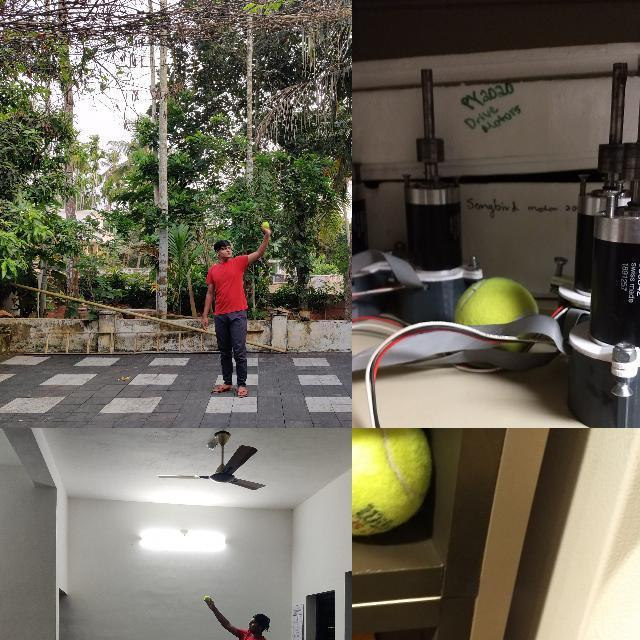tennis-ball: (352, 428, 433, 538), (454, 277, 538, 314), (263, 222, 269, 228), (204, 595, 210, 601)
